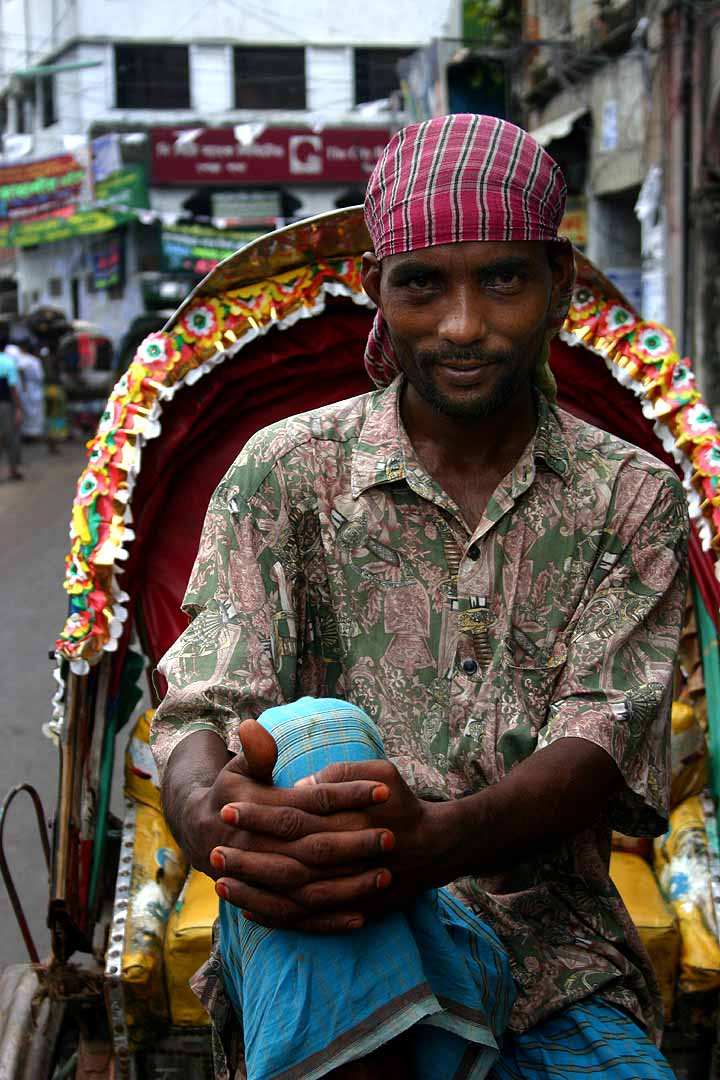Rickshaw: (20, 187, 719, 1079)
